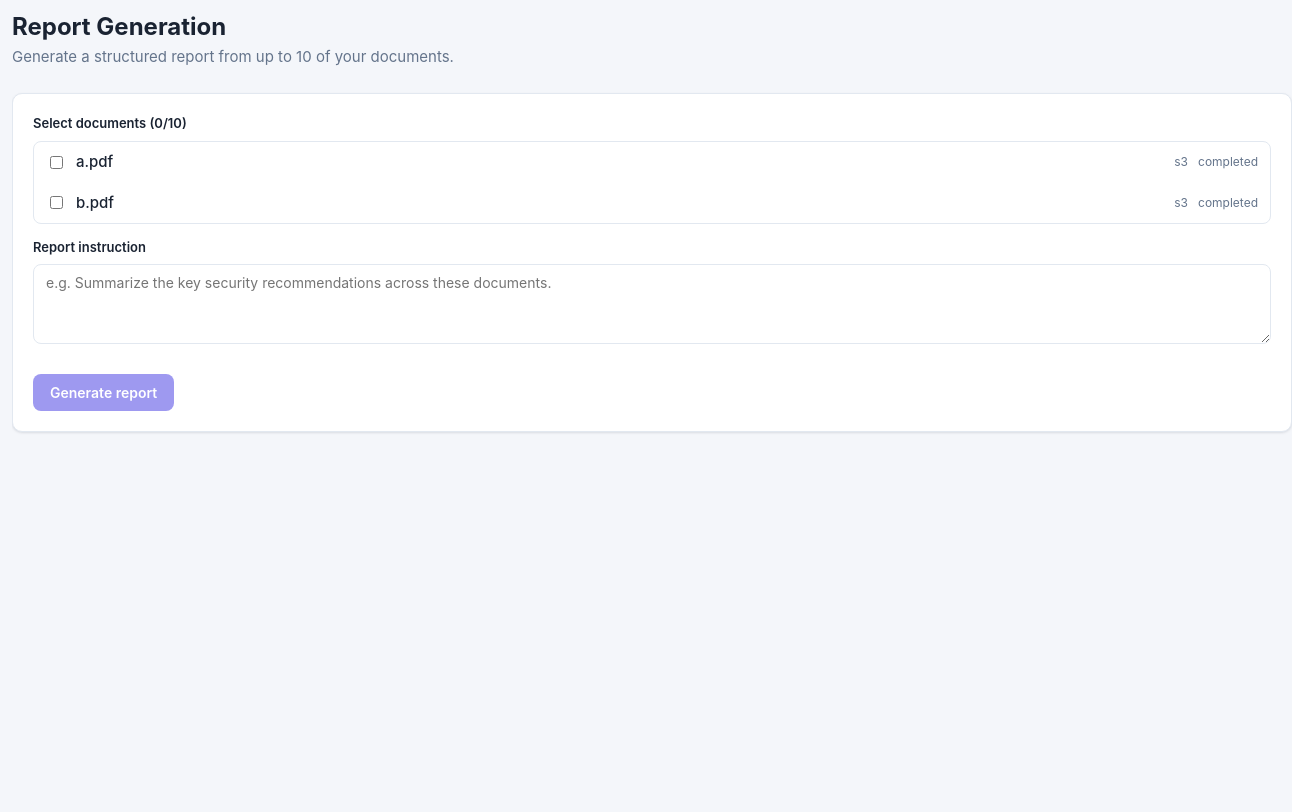
Test: ReportsPage › shows the backend error for an incomplete report (never a fabricated one)
Click the checkbox labelled "a.pdf s3 completed": (56, 162) [50,156,63,169]
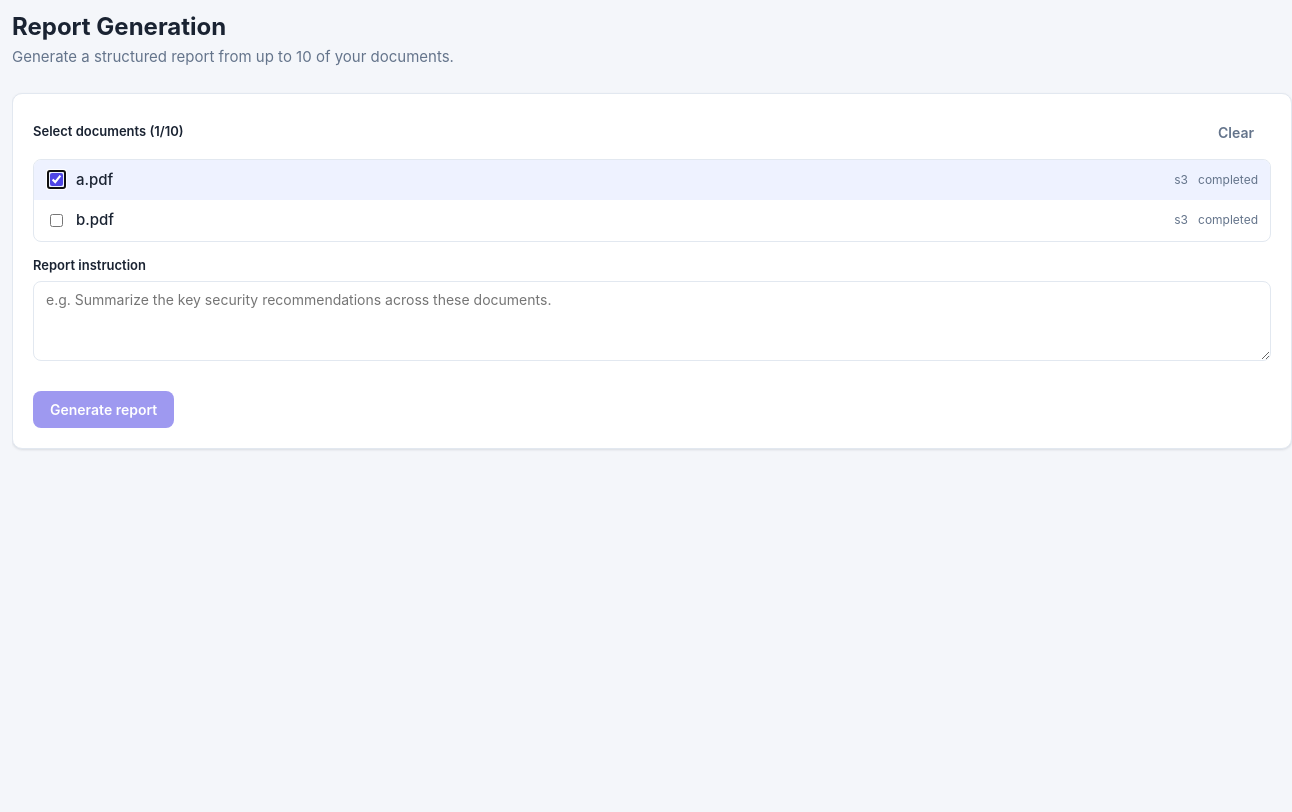
In the text box labelled "Report instruction": (652, 321) [33,281,1271,361], type "make a report"
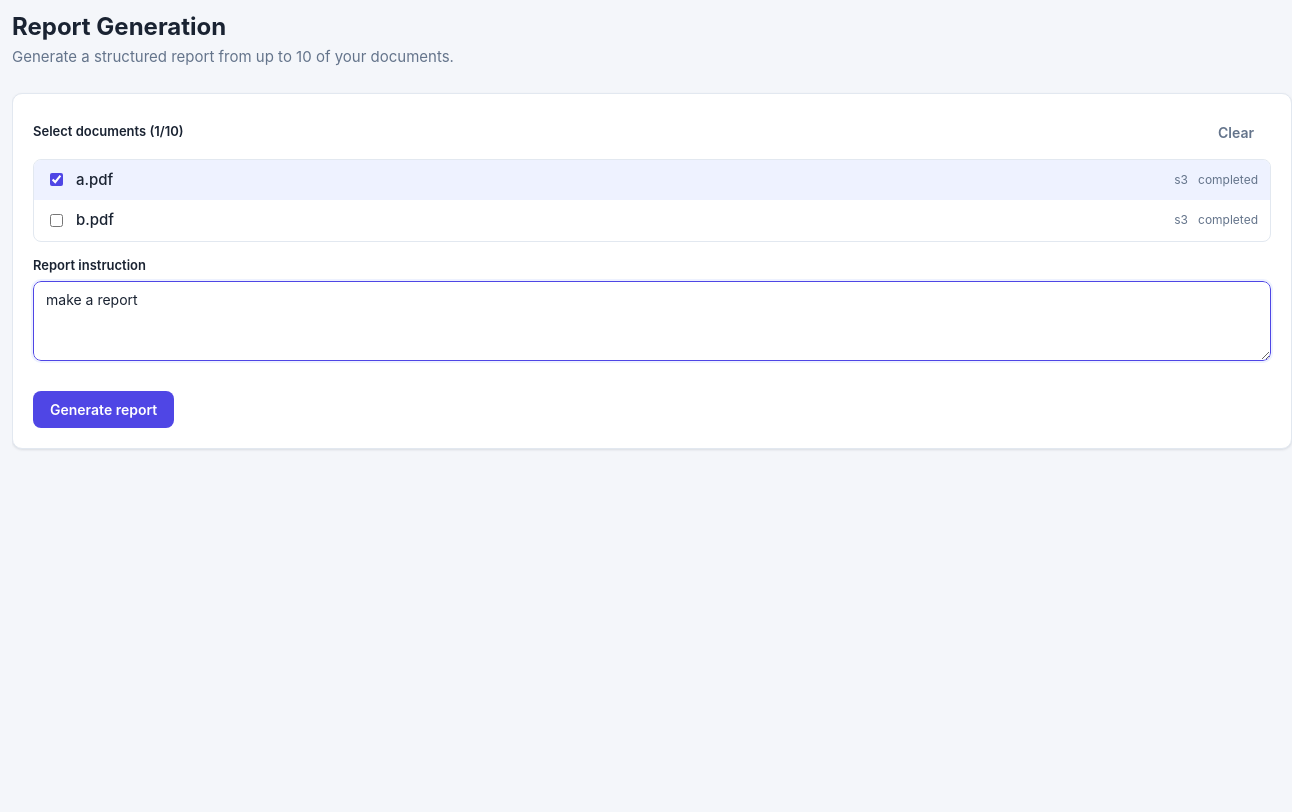
Click the button "Generate report": (104, 410) [33,391,174,428]
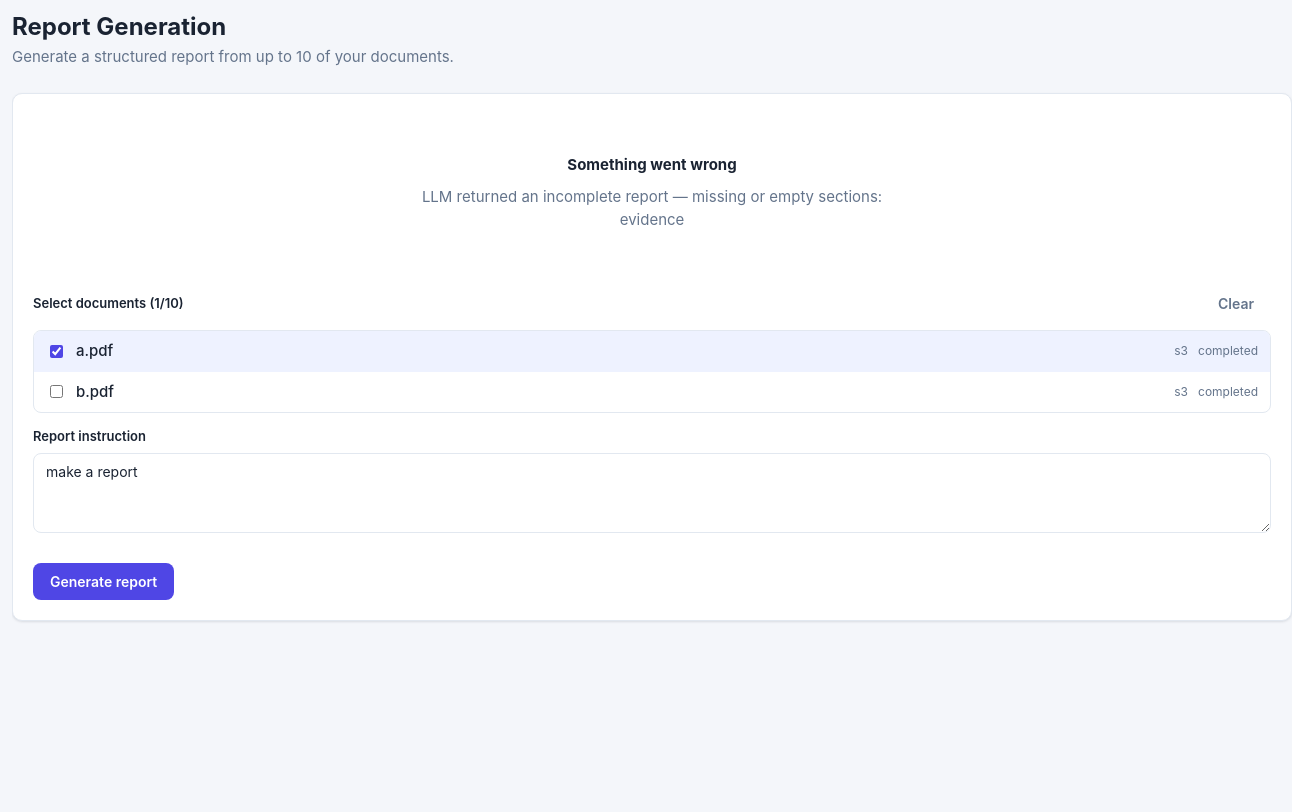
Expected: the text "incomplete report" is shown, [422,187,882,228]
